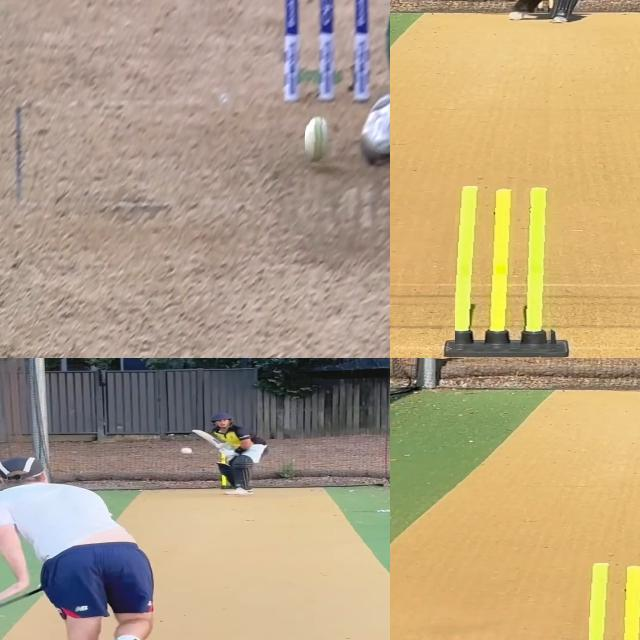Cricket ball: (305, 116, 331, 164), (180, 445, 193, 455)
Stumps: (455, 182, 560, 349), (588, 557, 640, 640)
